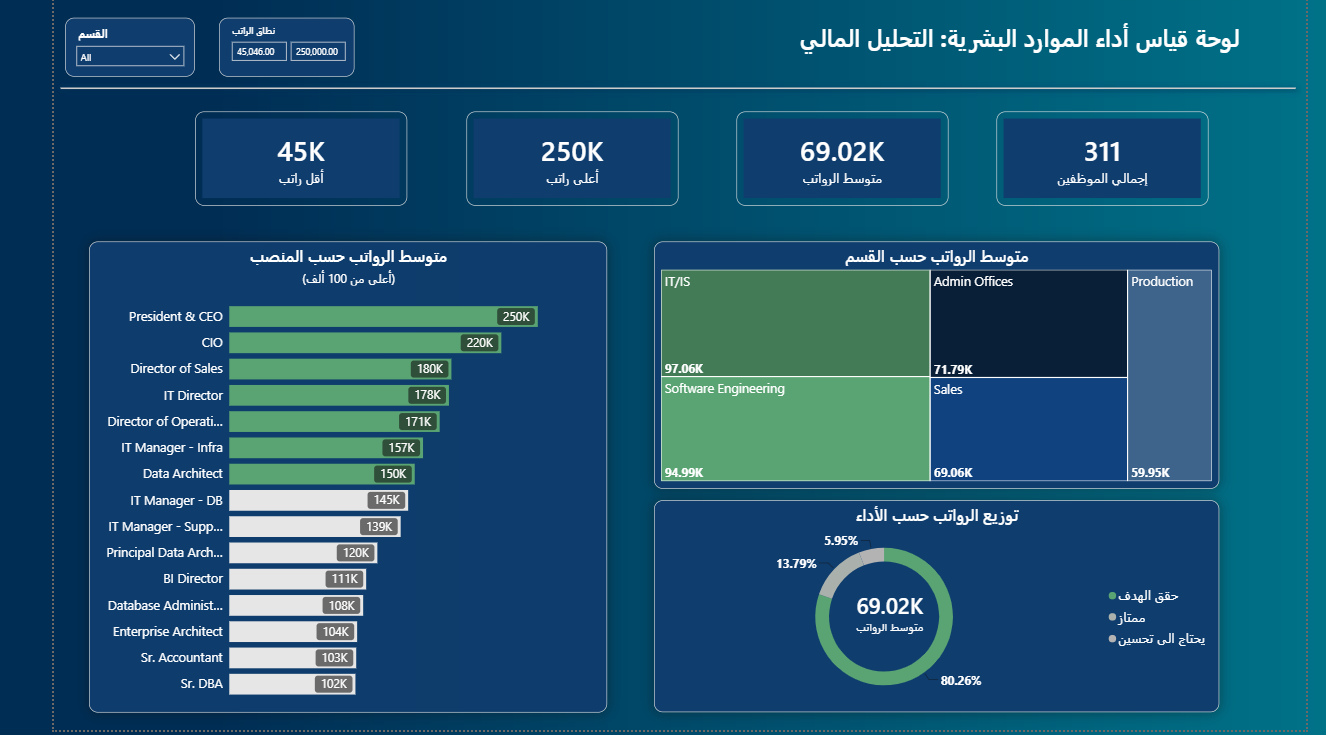

What the dashboard file says about the page in this screenshot:
{"tool":"powerbi","page":{"name":"التحليل المالي للرواتب","canvas":[1700,1000],"ordinal":2},"visuals":[{"type":"cardVisual","fields":{"Data":["All-Measuers.Total_Employees"]},"box":[1280,160,288,128],"z":0},{"type":"textbox","box":[944,32,736,80],"z":1000},{"type":"slicer","fields":{"Values":["Departments.DepartmentName"]},"box":[16,32,176,80],"z":2000},{"type":"shape","box":[0,112,1696,32],"z":3000},{"type":"cardVisual","fields":{"Data":["Avg(Employees.Salary)"]},"box":[928,160,288,128],"z":4000},{"type":"slicer","title":"السنة","fields":{"Values":["Employees.Salary"]},"box":[192,32,176,96],"z":5000},{"type":"cardVisual","fields":{"Data":["All-Measuers.Maximum Salary"]},"box":[560,160,288,128],"z":6000},{"type":"cardVisual","fields":{"Data":["All-Measuers.Minamum Salary"]},"box":[192,160,288,128],"z":7000},{"type":"clusteredBarChart","title":"متوسط الرواتب حسب المنصب","fields":{"Category":["Positions.PositionTitle"],"Y":["Avg(Employees.Salary)"]},"box":[144,320,704,656],"z":8000},{"type":"treemap","title":"متوسط الرواتب حسب القسم","fields":{"Group":["Departments.DepartmentName"],"Values":["Avg(Employees.Salary)"]},"box":[912,320,736,352],"z":9000},{"type":"donutChart","title":"توزيع الرواتب حسب الأداء","fields":{"Category":["Performance_Dim.PerformanceScore (groups)"],"Y":["Sum(Employees.Salary)"]},"box":[912,688,736,288],"z":10000},{"type":"cardVisual","fields":{"Data":["Avg(Employees.Salary)"]},"box":[1120,784,192,112],"z":10500}]}

Visuals, with their boxes on the page's 1700x1000 design canvas (x1, y1, x2, y2). These are canvas units, not pixel positions in the 1326x735 screenshot, which may show the page scaled, cropped or inside an application window:
cardVisual - All-Measuers.Total_Employees: <region>1280, 160, 1568, 288</region>
textbox: <region>944, 32, 1680, 112</region>
slicer - Departments.DepartmentName: <region>16, 32, 192, 112</region>
shape: <region>0, 112, 1696, 144</region>
cardVisual - Avg(Employees.Salary): <region>928, 160, 1216, 288</region>
"السنة" slicer: <region>192, 32, 368, 128</region>
cardVisual - All-Measuers.Maximum Salary: <region>560, 160, 848, 288</region>
cardVisual - All-Measuers.Minamum Salary: <region>192, 160, 480, 288</region>
"متوسط الرواتب حسب المنصب" clusteredBarChart: <region>144, 320, 848, 976</region>
"متوسط الرواتب حسب القسم" treemap: <region>912, 320, 1648, 672</region>
"توزيع الرواتب حسب الأداء" donutChart: <region>912, 688, 1648, 976</region>
cardVisual - Avg(Employees.Salary): <region>1120, 784, 1312, 896</region>
